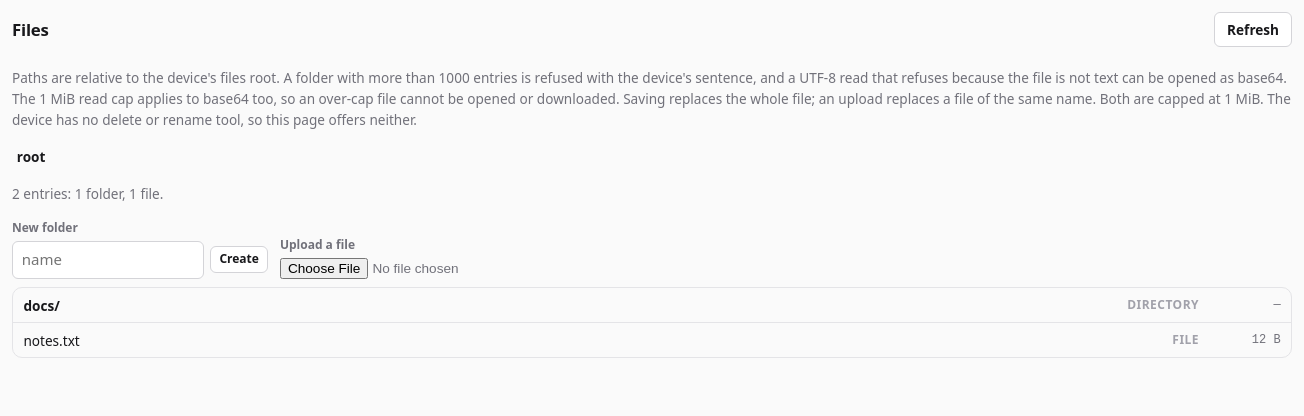
it: FilesPage opening a file › creates a folder under the folder on screen and re-lists it
Click the button "docs/" at (39, 305), box [23,293,1118,318]
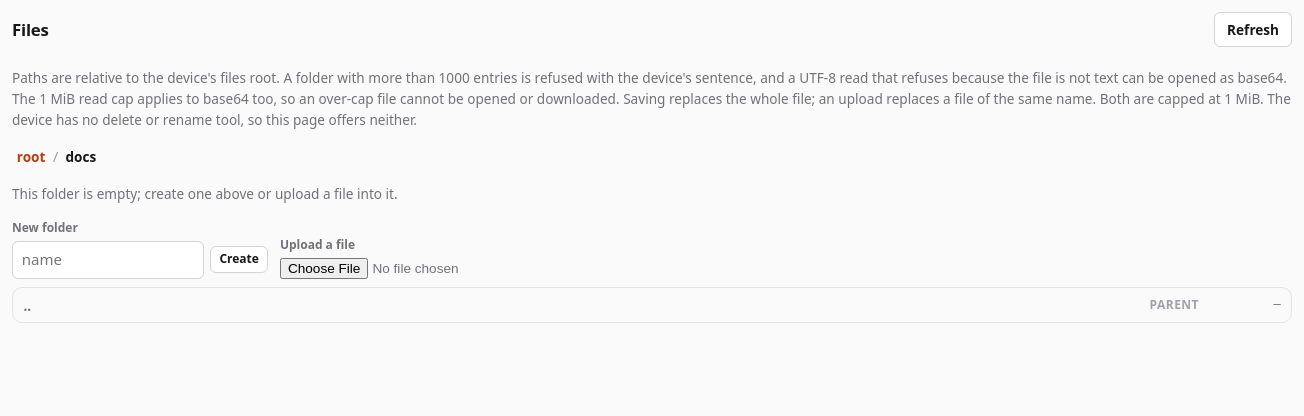
Check: the text "This folder is empty; create one above or upload a file into it." is shown, box [12,184,398,203]
Type "reports" into the field labelled "New folder" at (108, 260), box [12,241,204,279]
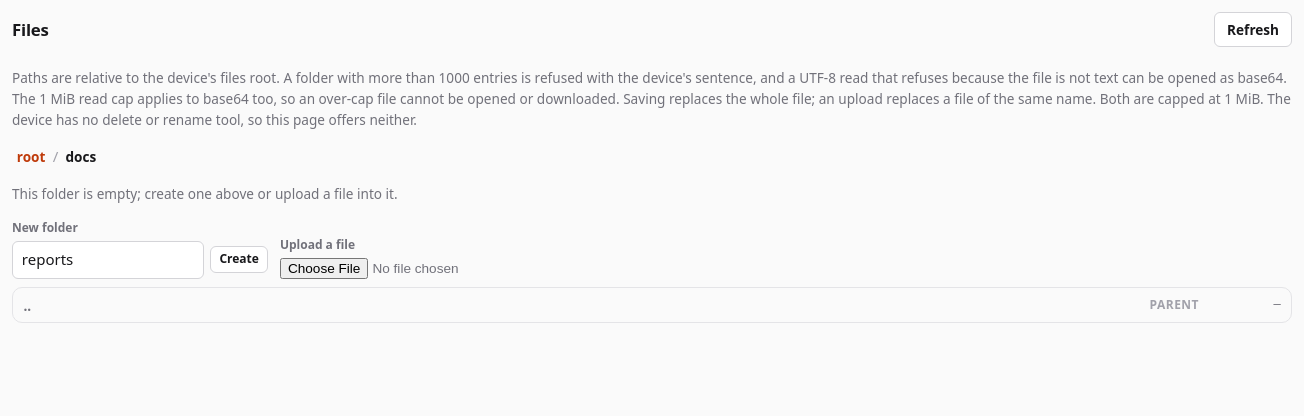
Click the button "Create" at (239, 260), box [210,246,268,273]
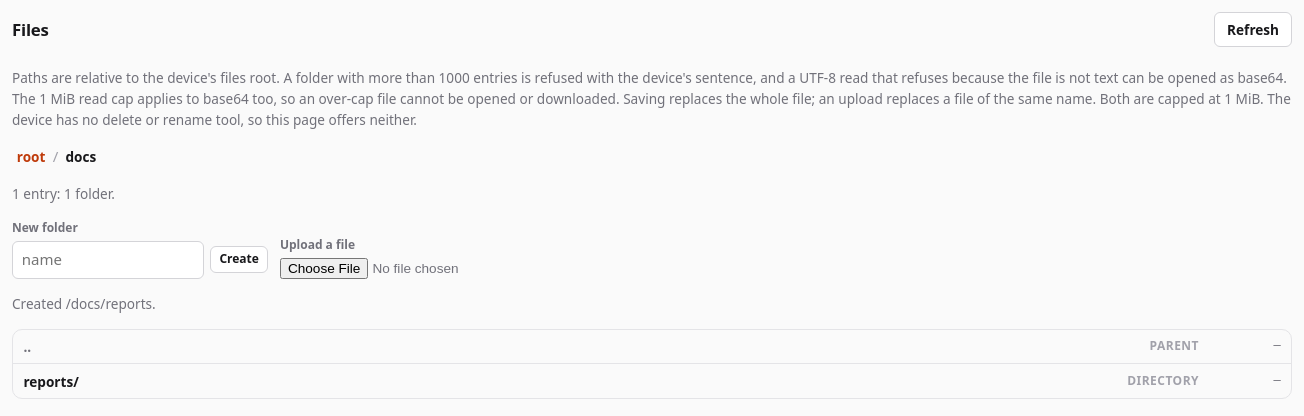
Check: the text "Created /docs/reports." is shown, box [12,294,156,313]
Check: the button "reports/" is shown, box [23,369,1118,394]
